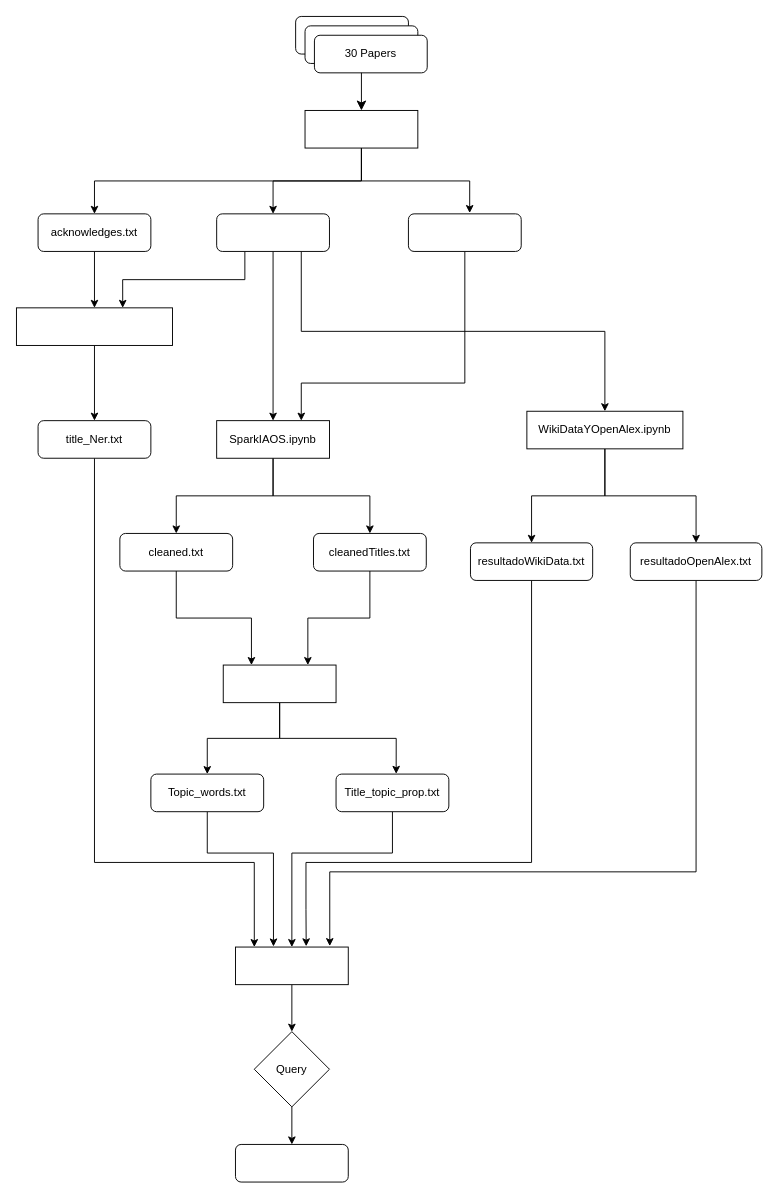
Image size: 778x1199. Some labels were removed from this diagram. Here are the shapes that lost their labels. From the top down, the centre of each, then its label:
point (361, 129): IAOSGrupo.py
point (272, 232): order.txt
point (464, 232): abstract.txt
point (94, 326): NER.ipynb
point (279, 683): TopicIAOS
point (291, 965): Grafo.py
point (291, 1163): queryResults
